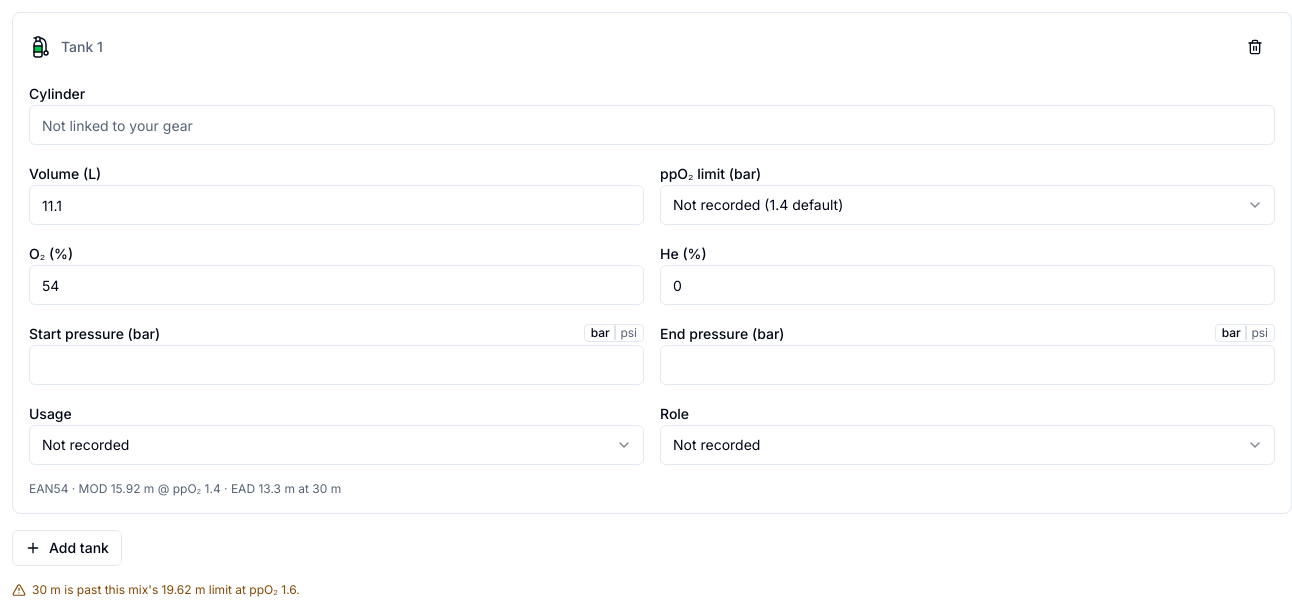
MixtureFields with no cylinders › lets the last cylinder be removed
Click the button named "remove tank 1". click: (1255, 47)
box: top-left (1235, 29), bottom-right (1275, 65)
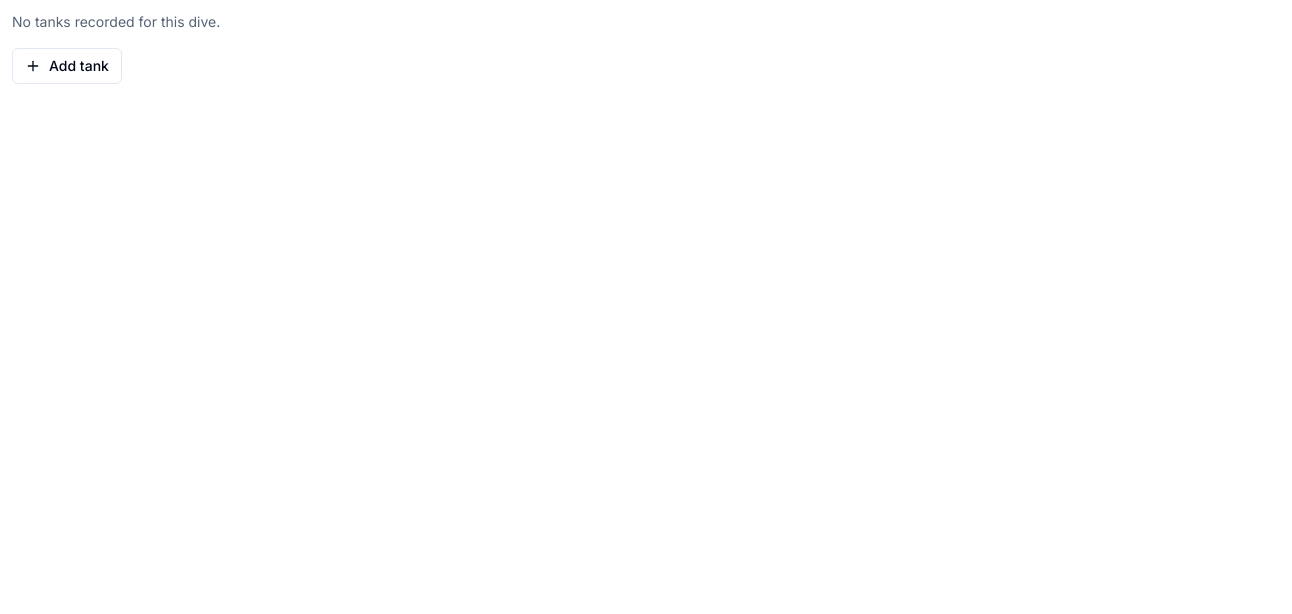
Expected: the text "Tank 1" is gone
Expected: the text "No tanks recorded for this dive." is shown, top-left (12, 13), bottom-right (220, 30)
